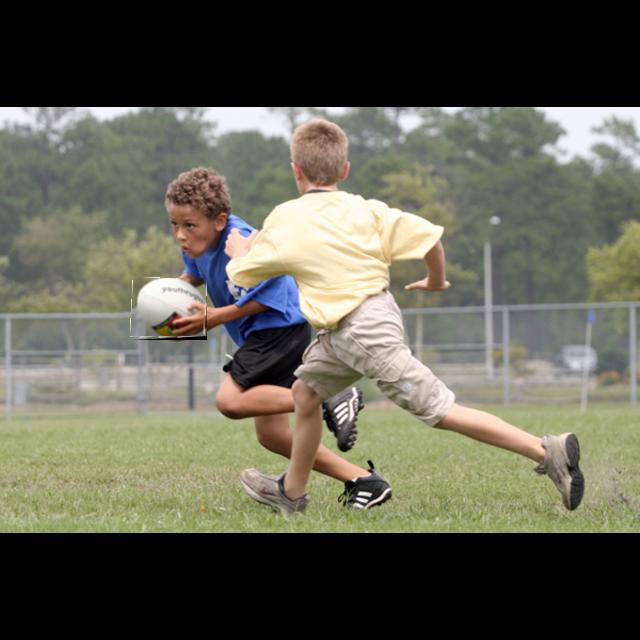Football: (131, 278, 207, 340)
